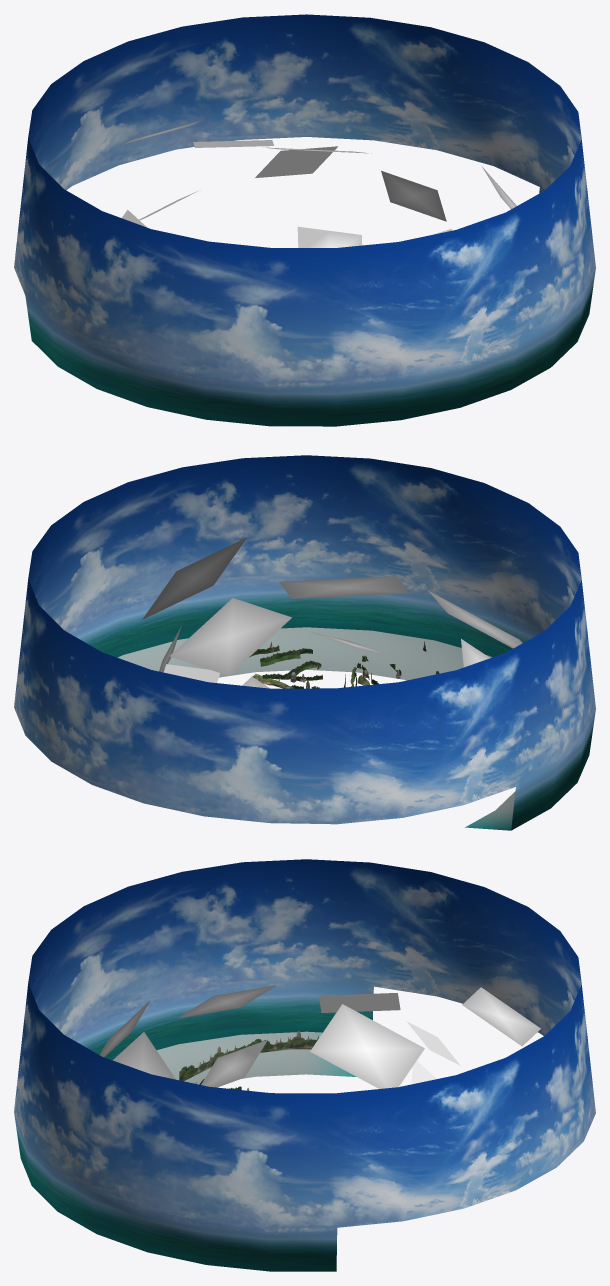
File: stage_m021.glb
The picture shows the model from 3 angles, top to bottom: view 1: azimuth 30°, elevation 25°; view 2: azimuth 150°, elevation 25°; view 3: azimuth 270°, elevation 25°; orthographic projection.
Parts seen in each view (by area): view 1: g0p205, g0p204, g1p03; view 2: g0p205, g0p204, g1p03, g0p202, g1p25; view 3: g0p205, g0p204, g1p03, g0p202, g1p01.
Part boxes in pixels (x1,y1,x2,y2): g0p205: (25,14,595,426); g0p204: (14,18,539,426); g1p03: (122,121,516,247); g0p205: (25,455,595,830); g0p204: (14,458,539,824); g1p03: (142,537,522,688); g0p202: (117,627,515,830); g1p25: (260,648,321,679); g0p205: (25,859,595,1271); g0p204: (14,862,539,1227); g1p03: (99,985,540,1088); g0p202: (157,1031,356,1084); g1p01: (179,1031,318,1081).
Bounding box in the file's own units: 984 × 357 × 986.
72 materials, 72 textured.
